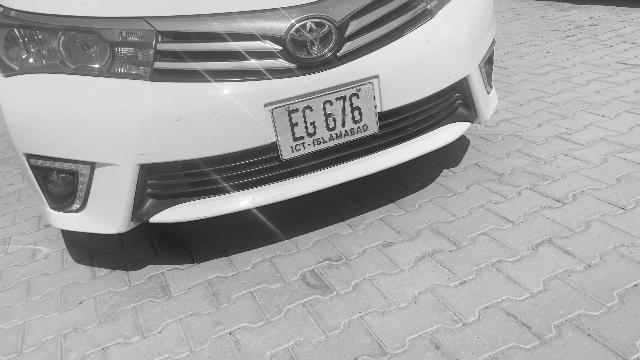Number: (284, 89, 368, 146)
